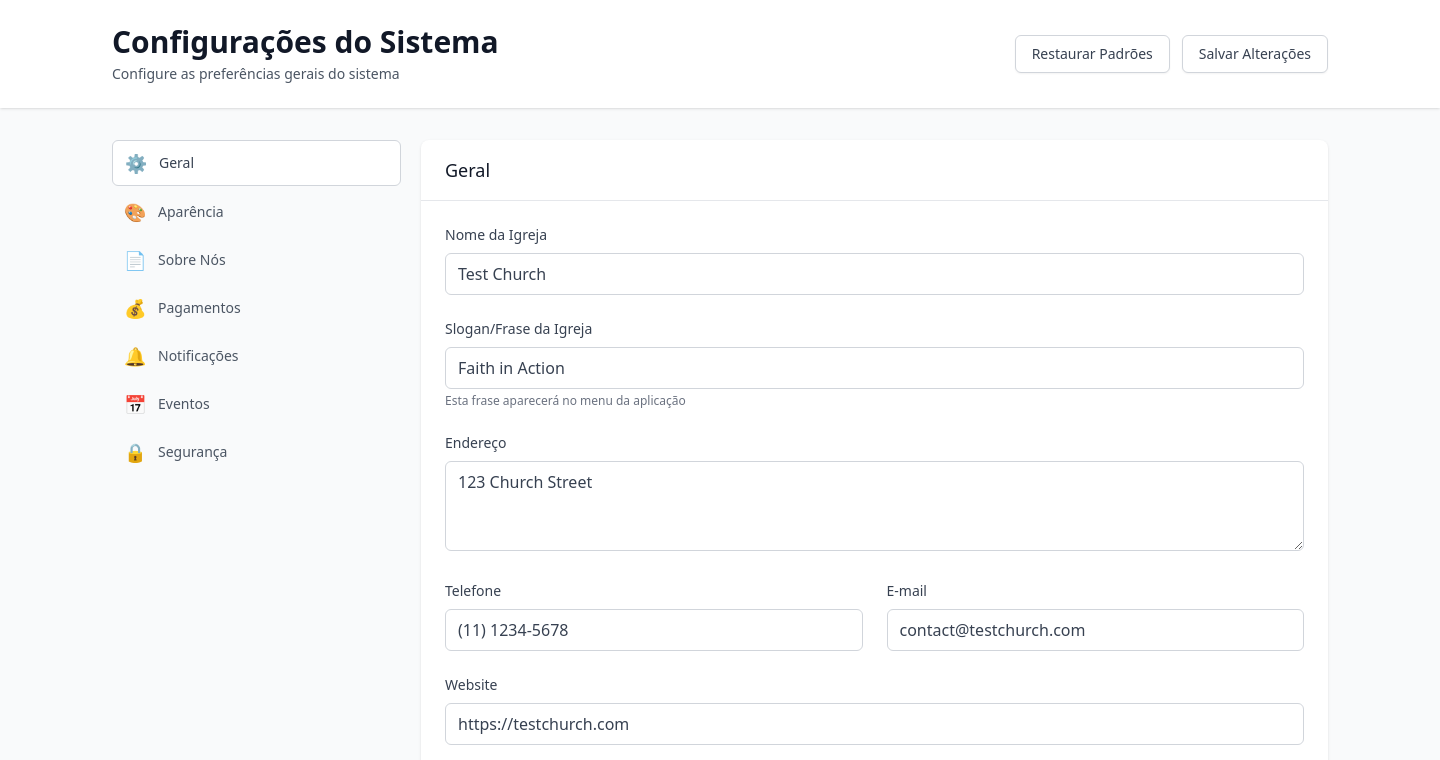
Test: AdminSettingsPage › permite navegar entre abas e mostra os campos corretos
The width and height of the screenshot is (1440, 760).
Click the button "🎨 Aparência".
click(191, 212)  # box [112,190,401,234]
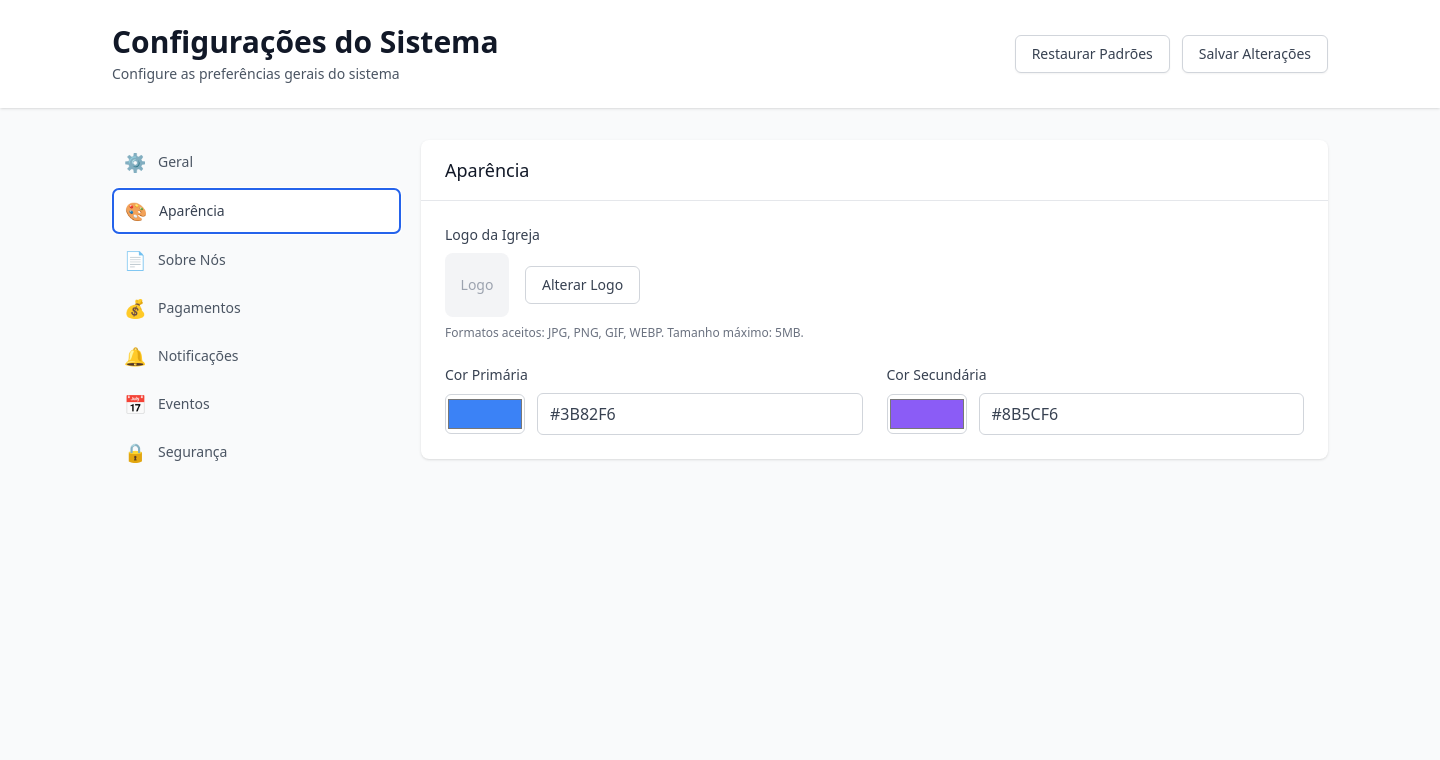
Check: the text "Logo da Igreja" is shown, box [445,225,540,244]
Check: the text "Cor Primária" is shown, box [445,365,528,384]
Click the button "📄 Sobre Nós".
click(192, 260)  # box [112,238,401,282]
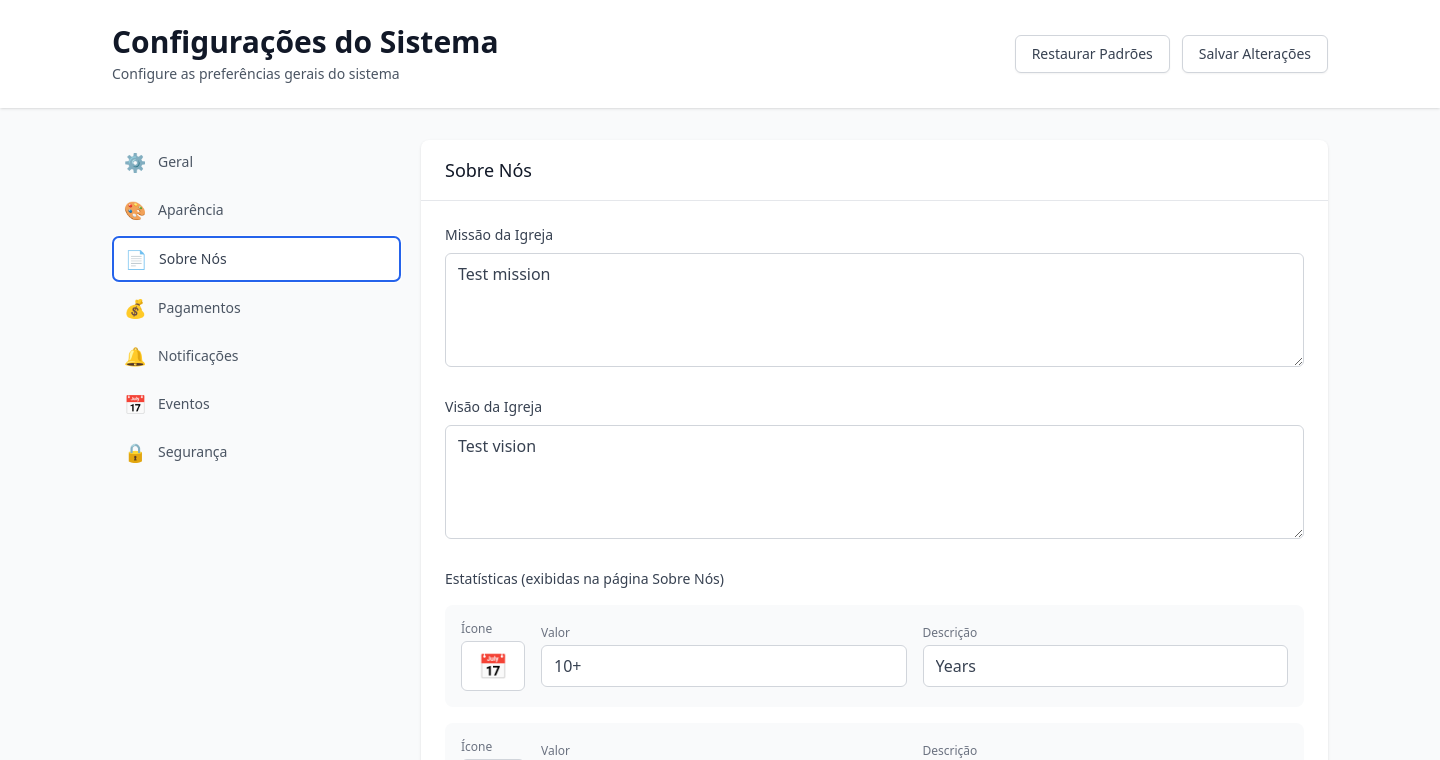
Check: the text box showing "Test mission" below "Missão da Igreja" is shown, box [445,253,1304,367]
Check: the text box showing "Test vision" below "Visão da Igreja" is shown, box [445,425,1304,539]
Check: the text "Estatísticas (exibidas na página Sobre Nós)" is shown, box [445,569,724,588]
Click the button "🔔 Notificações".
click(198, 356)  # box [112,334,401,378]
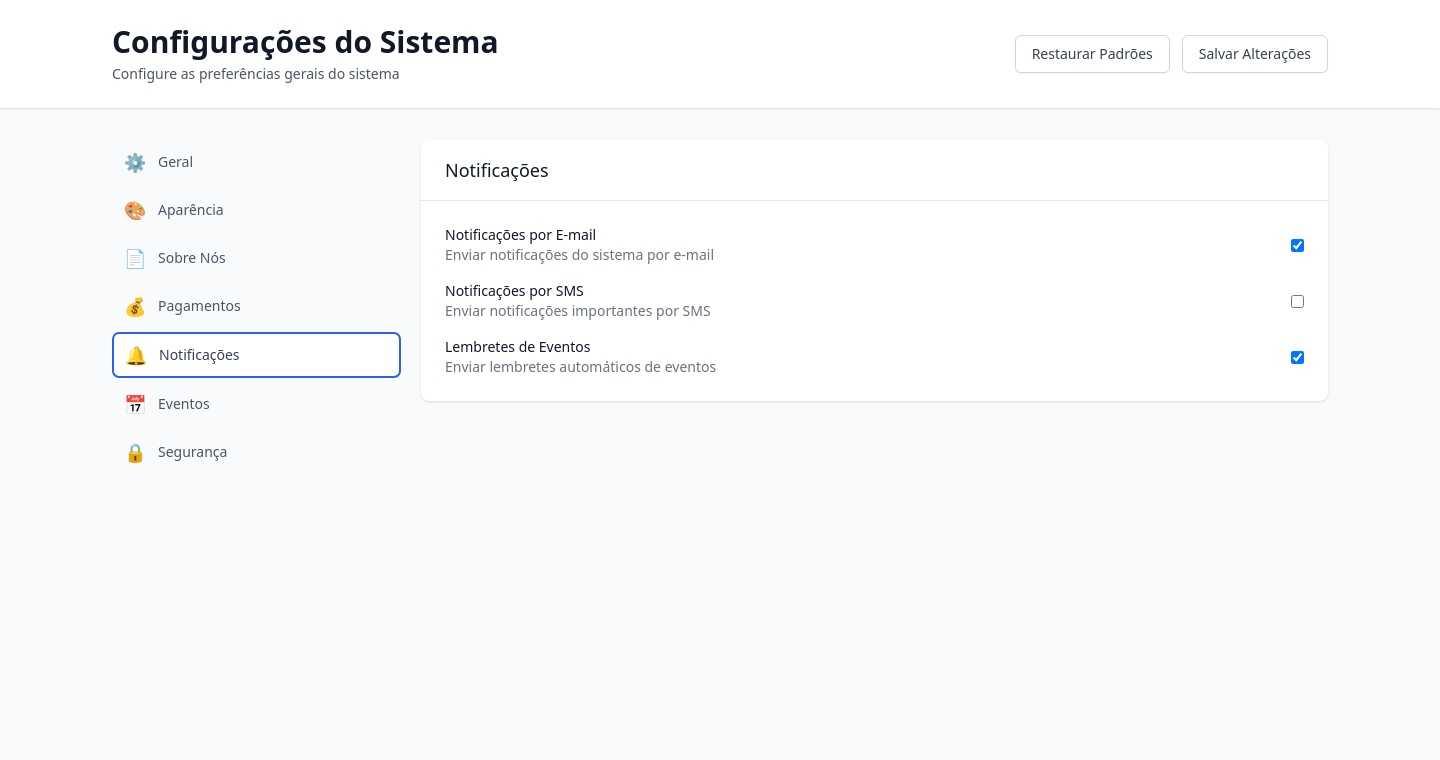
Check: the heading "Notificações por E-mail" is shown, box [445,225,596,244]
Click the button "📅 Eventos".
click(184, 404)  # box [112,382,401,426]
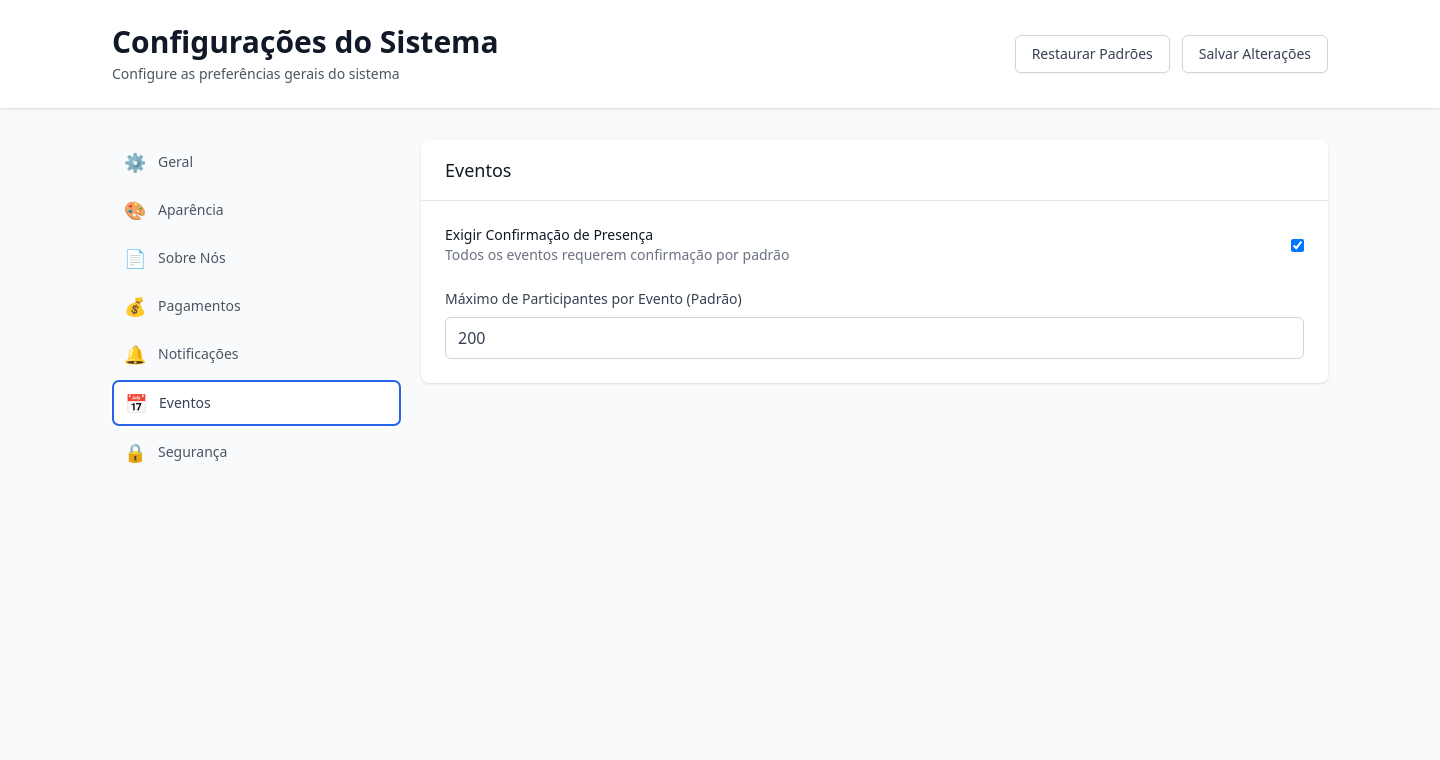
Check: the heading "Exigir Confirmação de Presença" is shown, box [445,225,653,244]
Click the button "🔒 Segurança".
click(193, 452)  # box [112,430,401,474]
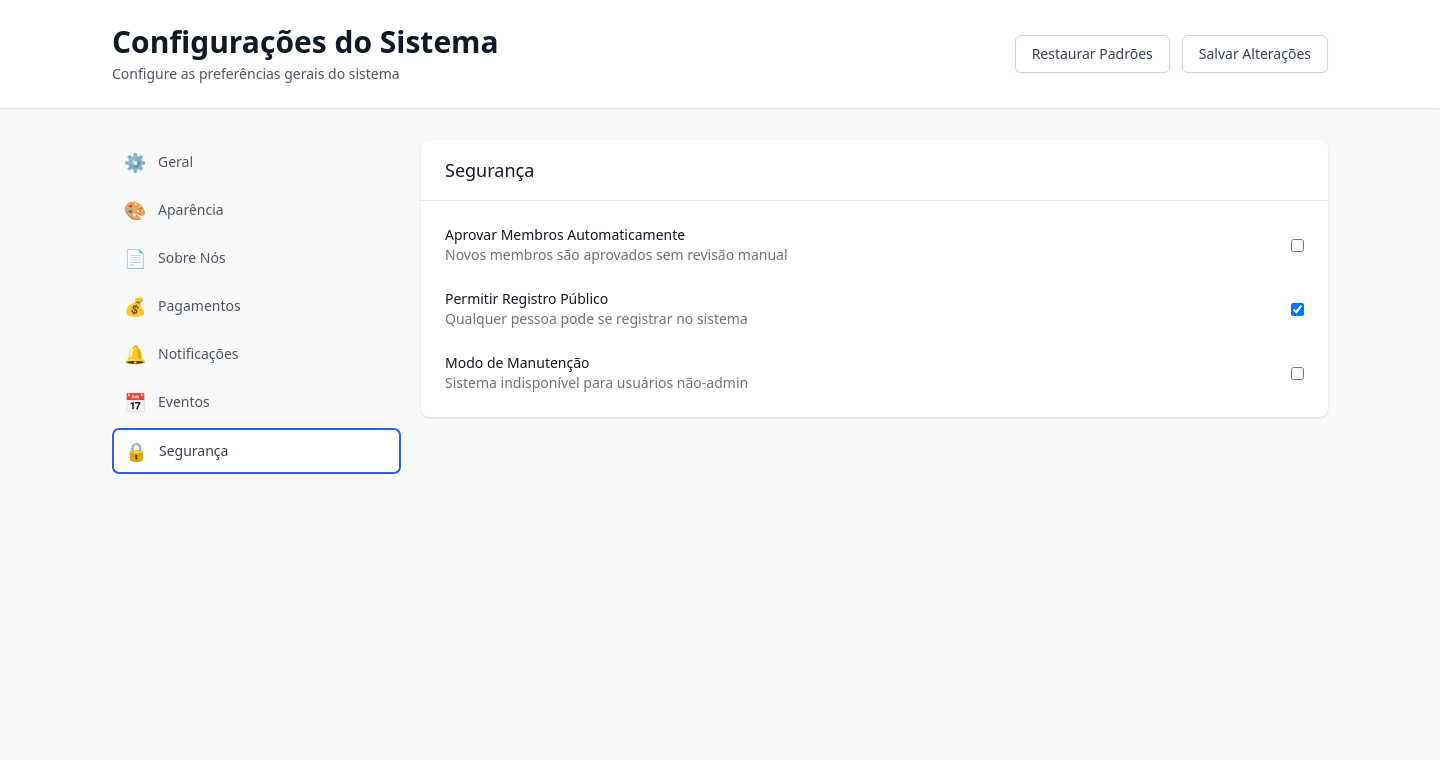
Check: the heading "Permitir Registro Público" is shown, box [445,289,608,308]
